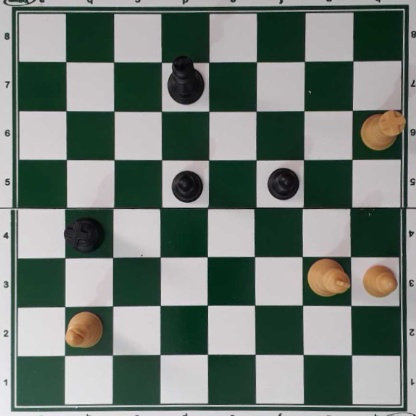black-king: (166, 53, 203, 105)
black-pawn: (266, 164, 300, 200), (168, 168, 203, 202)
black-rook: (62, 215, 104, 252)
white-bishop: (63, 308, 104, 349)
white-king: (305, 259, 350, 297)
white-pawn: (362, 264, 398, 297)
white-rook: (359, 108, 406, 149)
